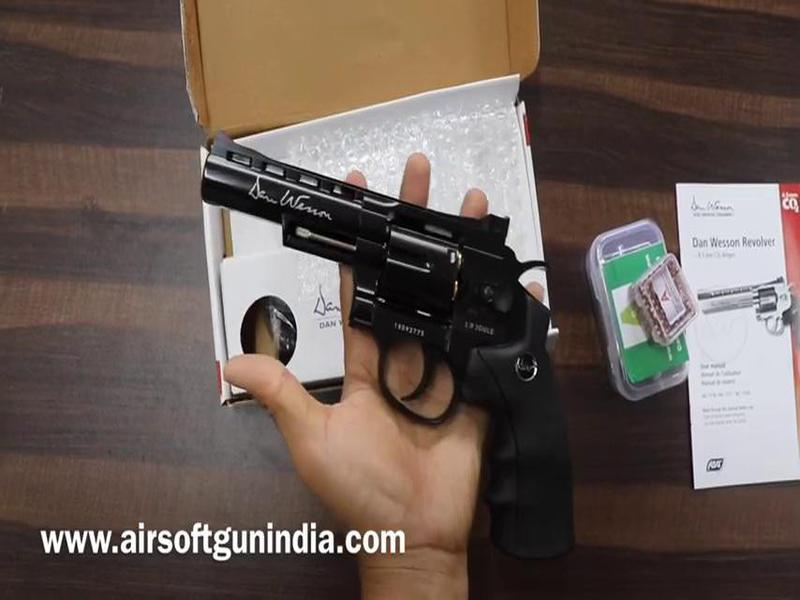Revolver: (180, 114, 609, 573)
